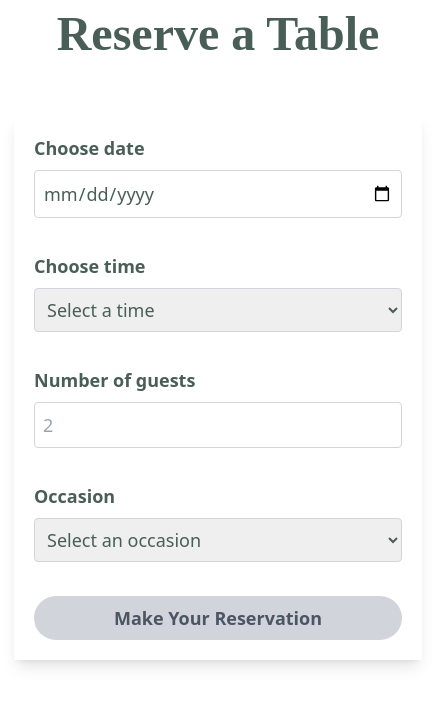
Validates date input
The width and height of the screenshot is (437, 718).
In the date field labelled "Choose date": (218, 194) [34,170,402,218], type "2020-01-01"
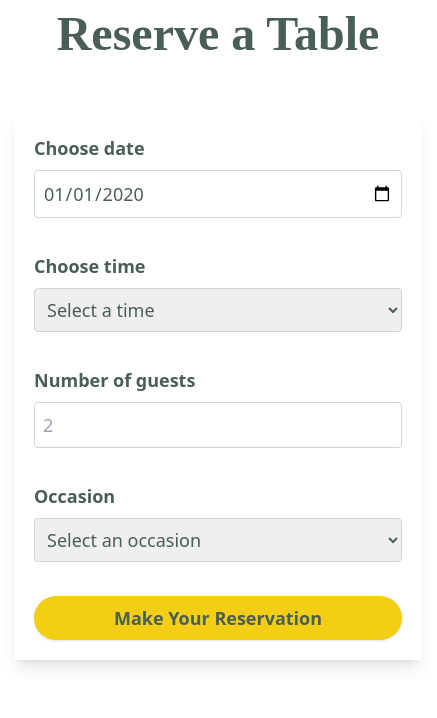
Leave the date field labelled "Choose date", box [34,170,402,218]
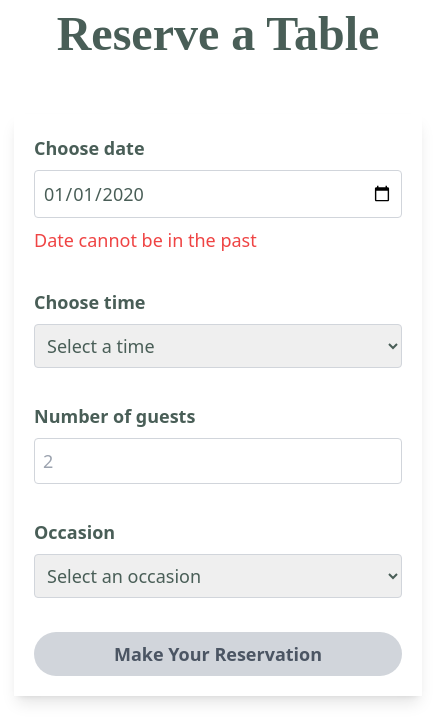
Expected: the text "Date cannot be in the past" is shown, [34,228,257,252]
